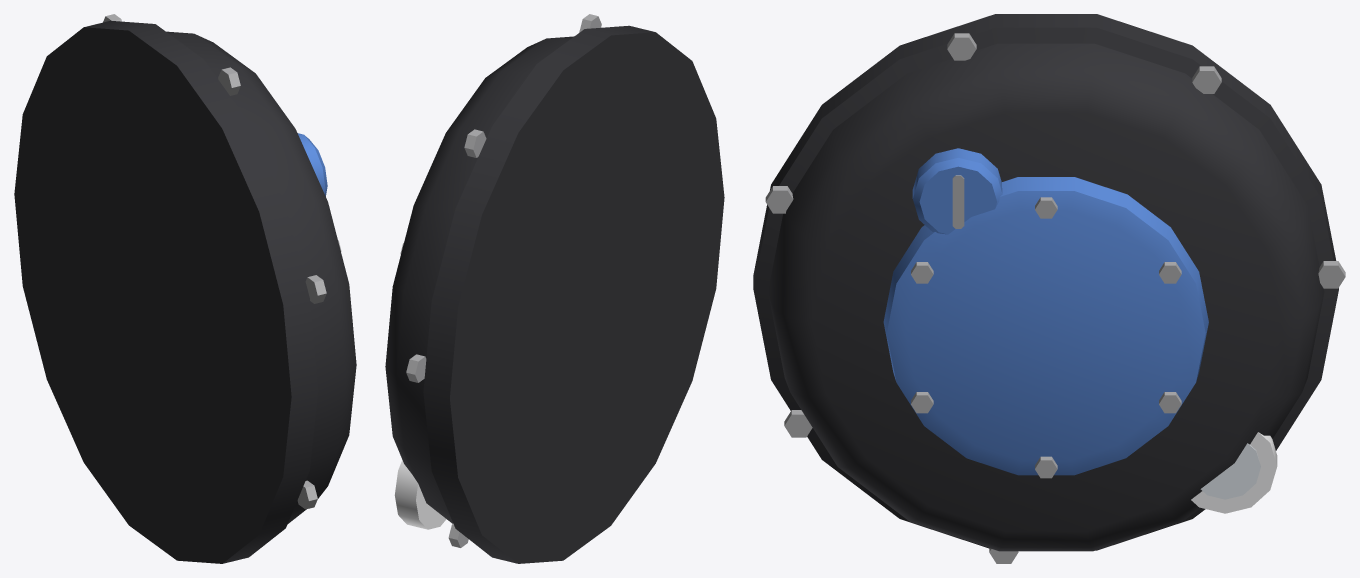
Rendered from clutch.glb.
The picture shows the model from 3 angles, left to right: view 1: azimuth 30°, elevation 25°; view 2: azimuth 150°, elevation 25°; view 3: azimuth 270°, elevation 25°; orthographic projection. The views are drawn at different scales.
Parts seen in each view (by area): view 1: lod0; view 2: lod0; view 3: lod0.
Part boxes in pixels (<box>): lod0: <box>14,14,356,563</box>; lod0: <box>385,14,724,563</box>; lod0: <box>753,14,1345,563</box>.
Size of what is drawn, in the model's own units: 0.0466 by 0.1793 by 0.182.
